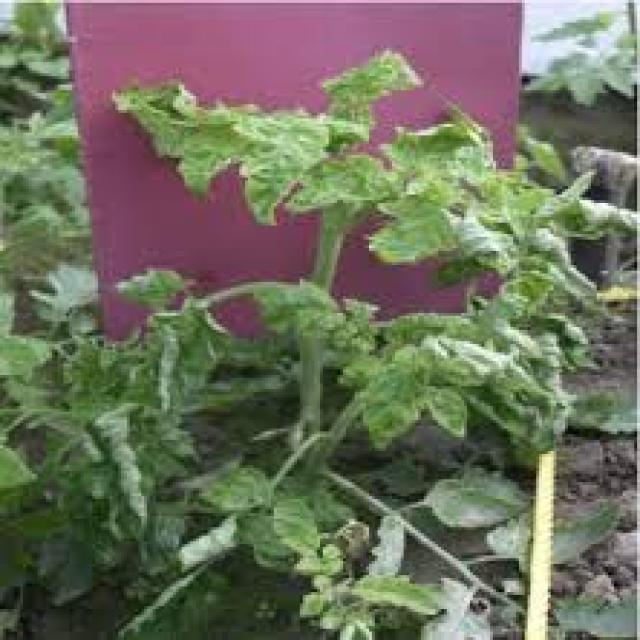Nutirtion_deficie: (106, 36, 598, 307), (254, 272, 606, 500), (0, 279, 226, 575), (219, 485, 479, 640)
